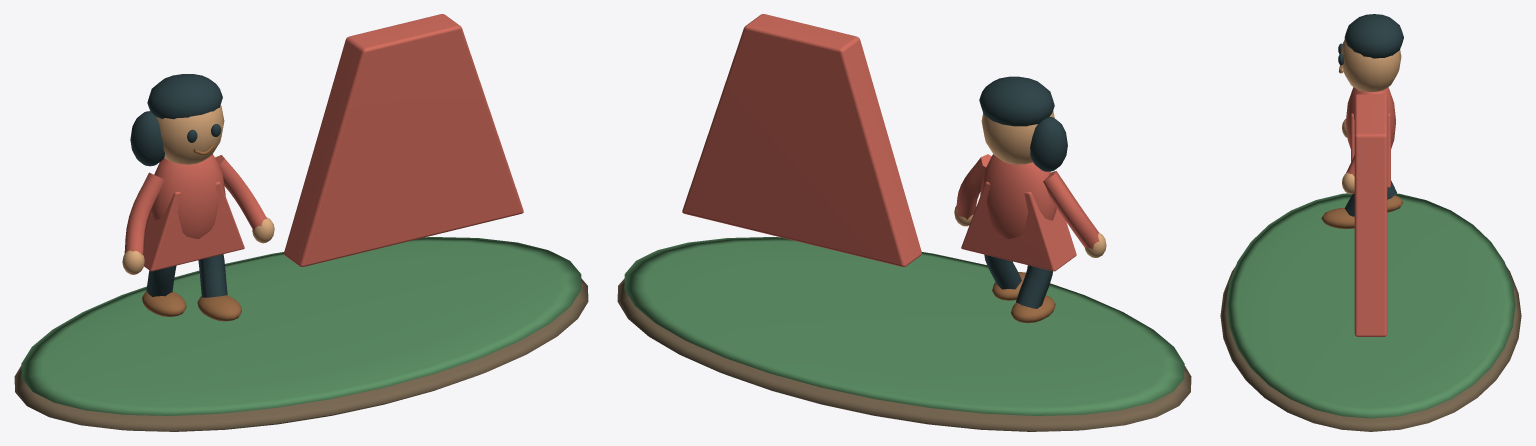
The model's file is child-skirt.glb.
The picture shows the model from 3 angles, left to right: view 1: azimuth 30°, elevation 25°; view 2: azimuth 150°, elevation 25°; view 3: azimuth 270°, elevation 25°; orthographic projection. The views are drawn at different scales.
Parts seen in each view (by area): view 1: child-skirt_surface_01, child-skirt_surface_02, child-skirt_surface_00, child-skirt_surface_04, child-skirt_surface_03, child-skirt_surface_05; view 2: child-skirt_surface_01, child-skirt_surface_02, child-skirt_surface_00, child-skirt_surface_04, child-skirt_surface_03, child-skirt_surface_05; view 3: child-skirt_surface_01, child-skirt_surface_02, child-skirt_surface_00, child-skirt_surface_04, child-skirt_surface_03, child-skirt_surface_05.
Boxes of the visible parts, left/top/right/bottom form: child-skirt_surface_01: left=21, top=237, right=581, bottom=415; child-skirt_surface_02: left=124, top=14, right=523, bottom=271; child-skirt_surface_00: left=14, top=278, right=588, bottom=431; child-skirt_surface_04: left=130, top=74, right=227, bottom=297; child-skirt_surface_03: left=122, top=105, right=274, bottom=274; child-skirt_surface_05: left=142, top=145, right=241, bottom=321; child-skirt_surface_01: left=624, top=237, right=1184, bottom=415; child-skirt_surface_02: left=682, top=14, right=1099, bottom=271; child-skirt_surface_00: left=617, top=278, right=1191, bottom=431; child-skirt_surface_04: left=979, top=76, right=1067, bottom=308; child-skirt_surface_03: left=954, top=110, right=1106, bottom=257; child-skirt_surface_05: left=992, top=272, right=1055, bottom=323; child-skirt_surface_01: left=1226, top=193, right=1515, bottom=418; child-skirt_surface_02: left=1345, top=87, right=1395, bottom=336; child-skirt_surface_00: left=1220, top=266, right=1521, bottom=431; child-skirt_surface_04: left=1338, top=14, right=1403, bottom=216; child-skirt_surface_03: left=1341, top=39, right=1401, bottom=194; child-skirt_surface_05: left=1321, top=65, right=1403, bottom=228.
Size of the model in its own units: 4.56 by 2.41 by 2.5.
